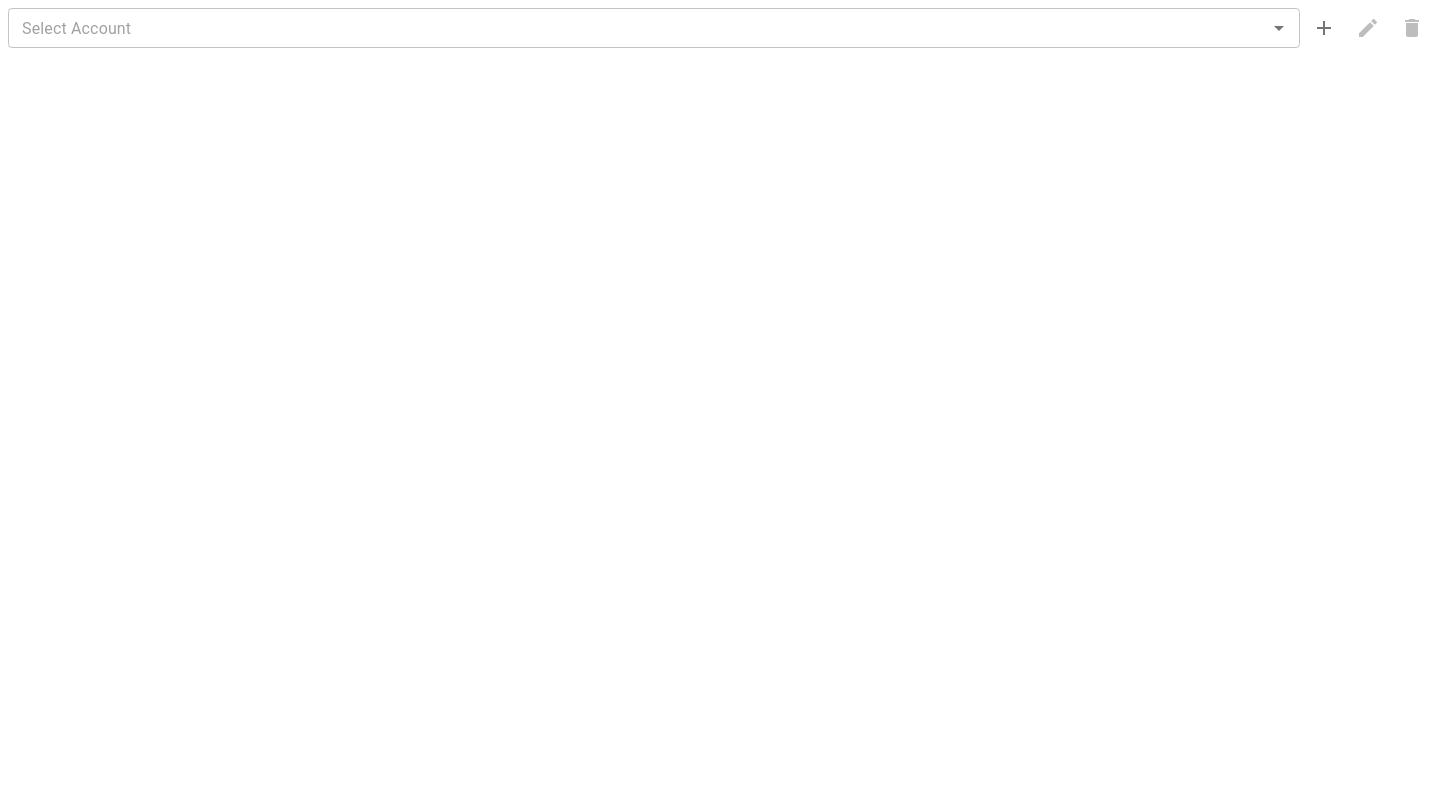
it: AccountList › opens AccountDialog in edition mode when edit button is clicked
Press the mouse on the dropdown with placeholder "Select Account" at x=638, y=28, box [14,14,1261,42]
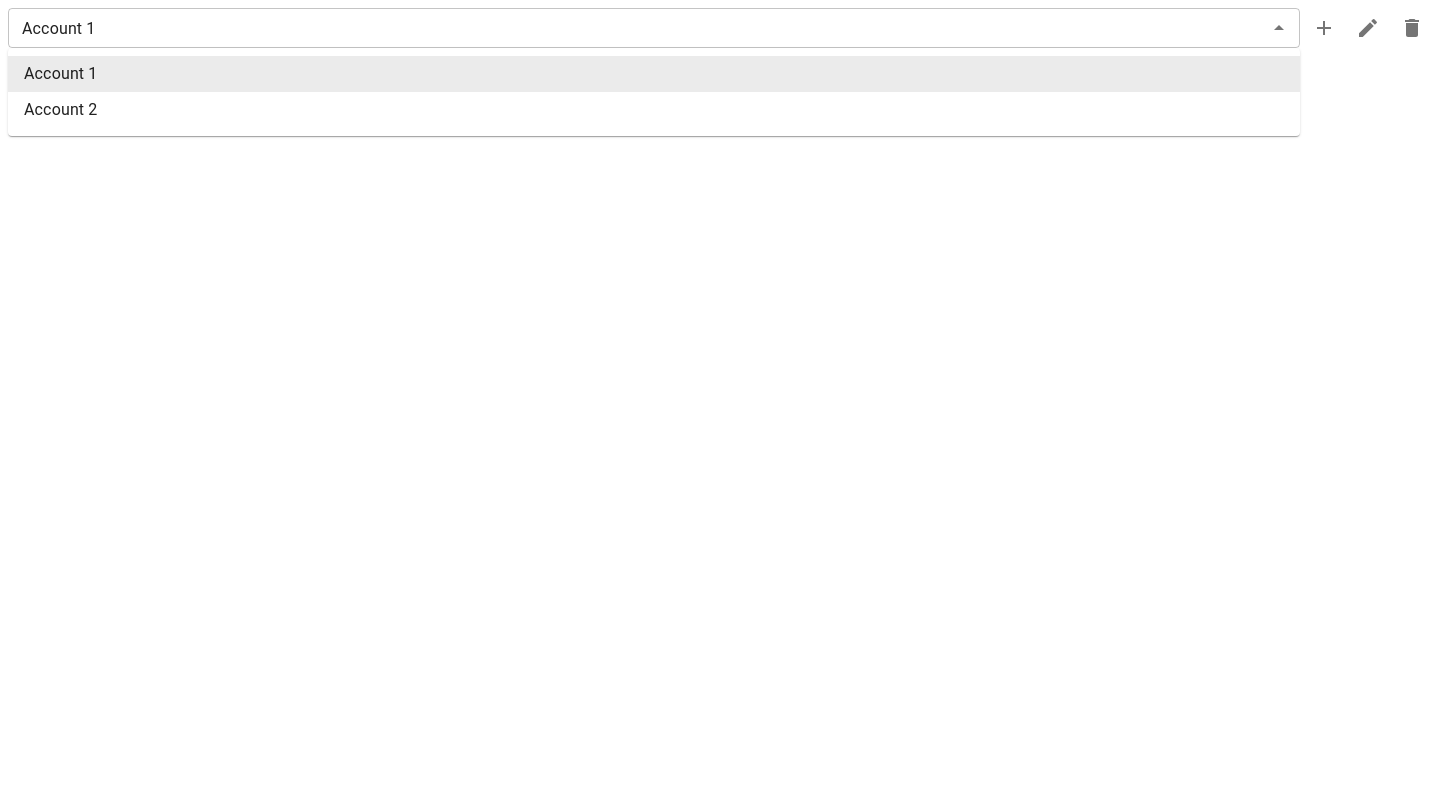
Click the option "Account 1". click: x=61, y=74
box: [8,56,1300,92]
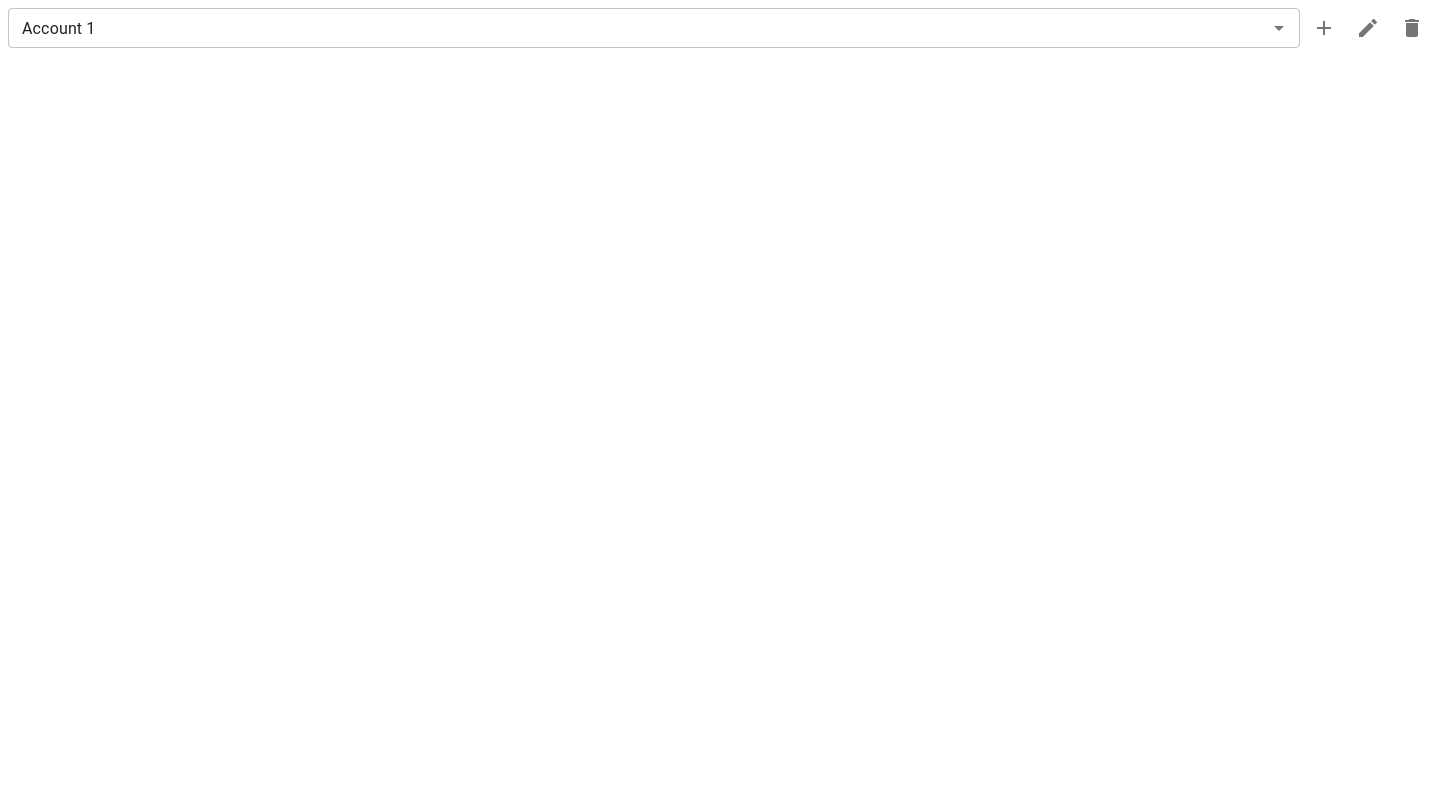
Click the button named "edit". click: x=1368, y=28
box: [1348,8,1388,48]
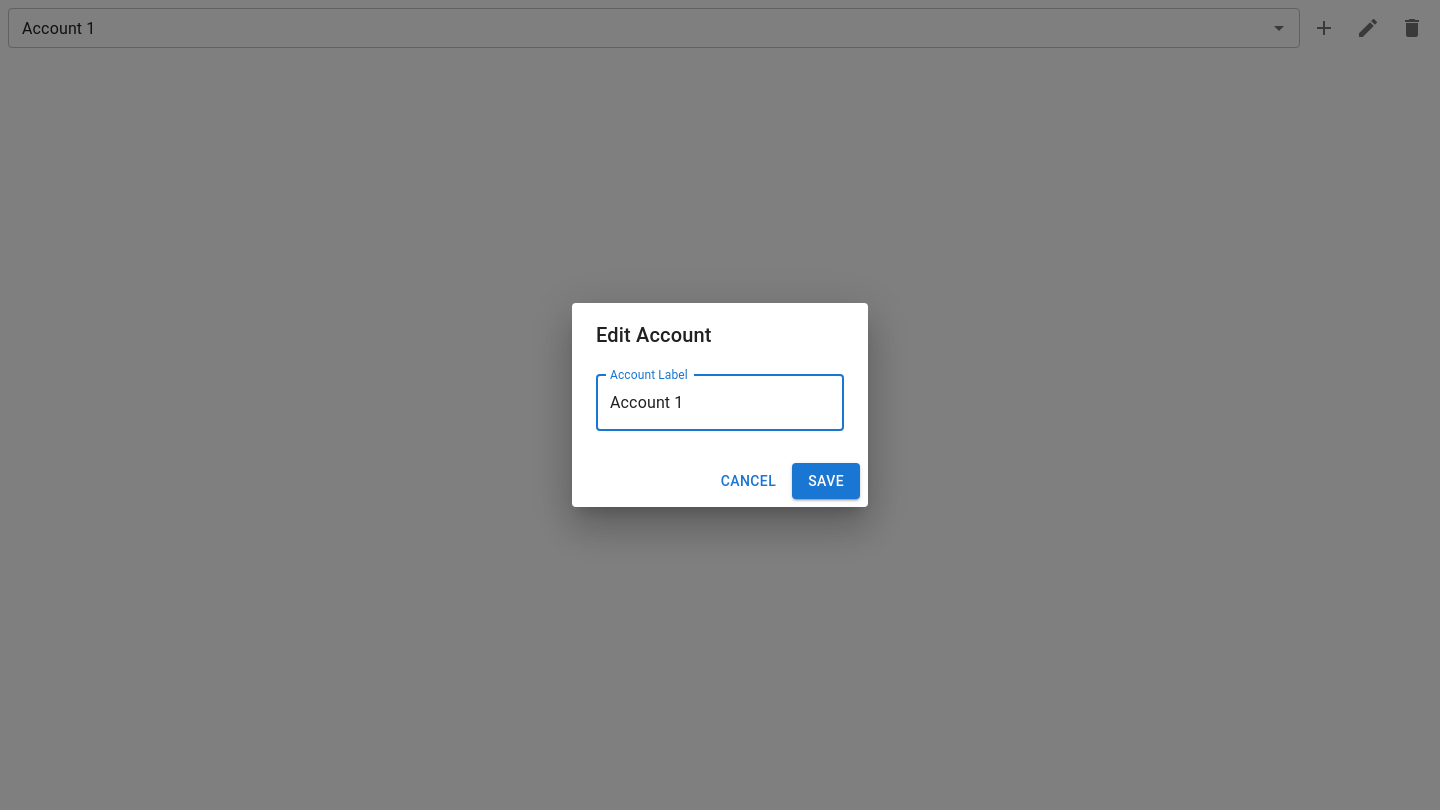
Expected: the heading "Edit Account" is shown, [596,323,712,347]
Expected: the field labelled "Account Label" holds "Account 1", [596,375,844,431]
